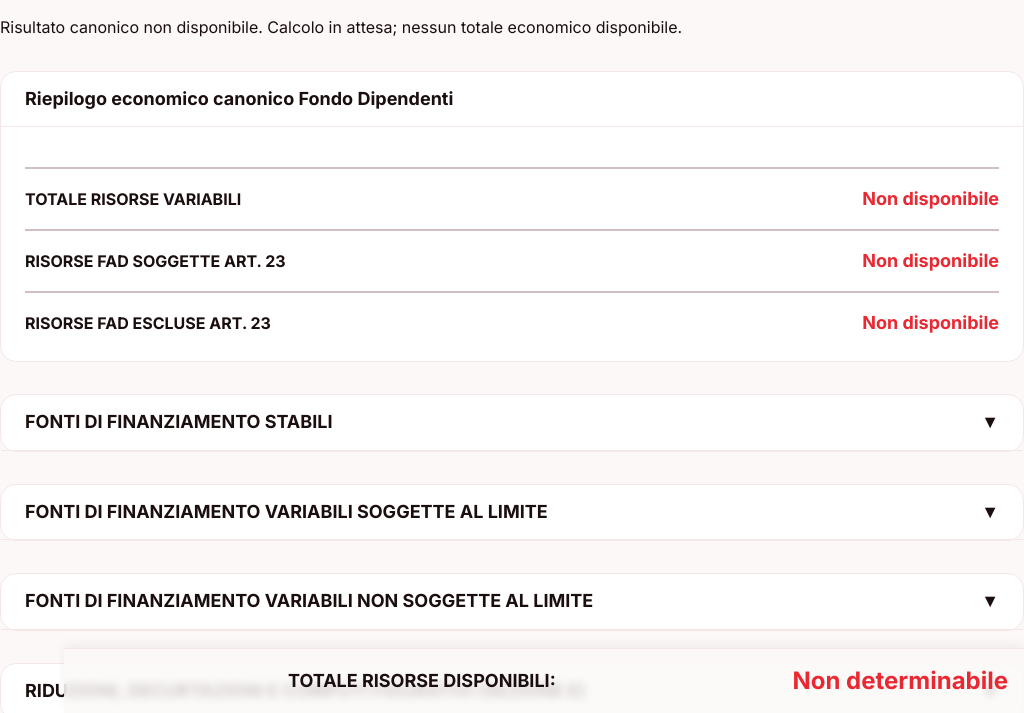
Scenario: FondoAccessorioDipendentePage — Art. 79 c. 1 lett. c Safety › D. source wizard2026 legacy: valore presente preservato e warning informativo visibile a video
The image size is (1024, 713).
Note: Espandi la sezione Parte Stabile
Click the text "FONTI DI FINANZIAMENTO STABILI".
click(179, 422)  # box x1=25 y1=411 x2=332 y2=434
(page scrolled)
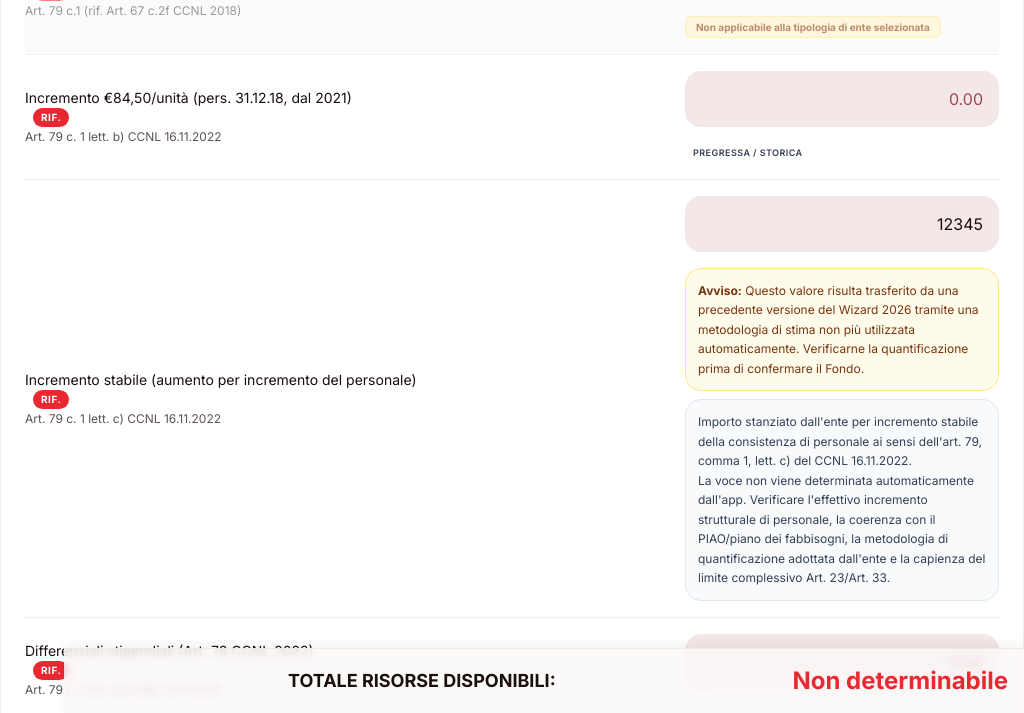
Check: the field named "st_art79c1c_incrementoStabileConsistenzaPers" holds "12345", box x1=685 y1=196 x2=999 y2=252
Check: the text "Questo valore risulta trasferito da una precedente versione del Wizard 2026" is shown, box x1=698 y1=282 x2=978 y2=376
